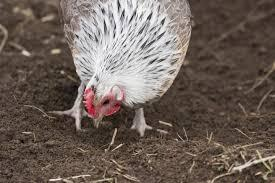AbNormal: (40, 0, 209, 142)
